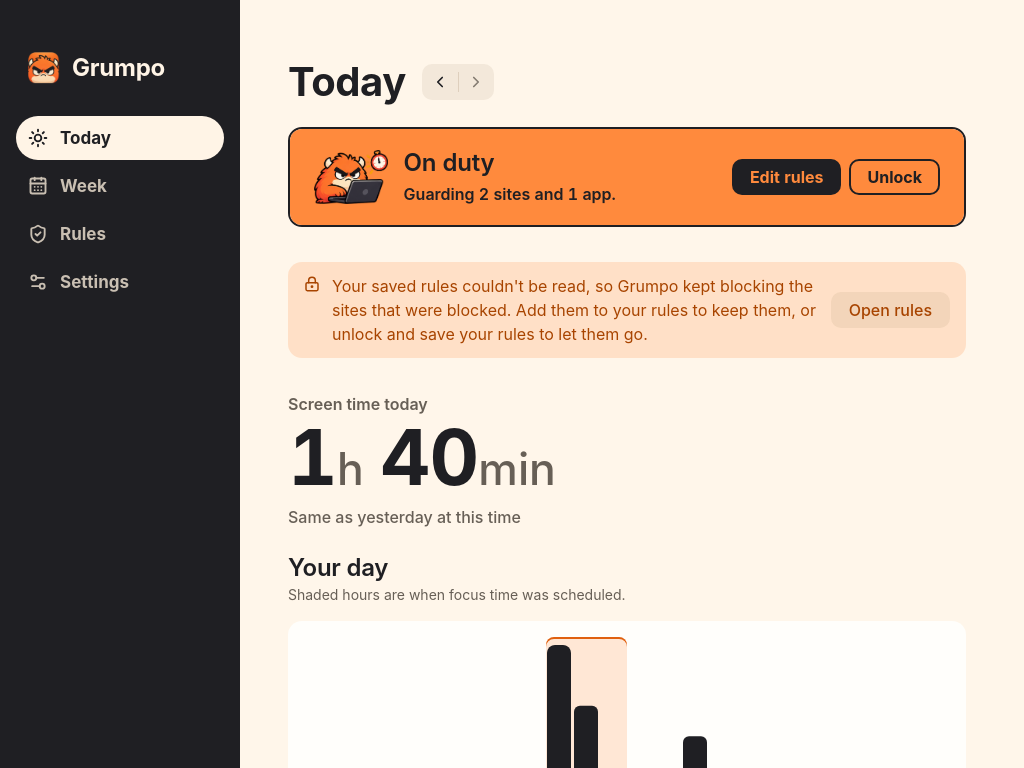
TodayScreen held sites › stays quiet on a past day, where the banner is not shown either
Expected: the text "Your saved rules couldn't be read, so Grumpo kept blocking the sites that were blocked. Add them to your rules to keep t" is shown, [332,276,816,344]
Click the button named "Previous day" at (440, 82), box [422,64,458,100]
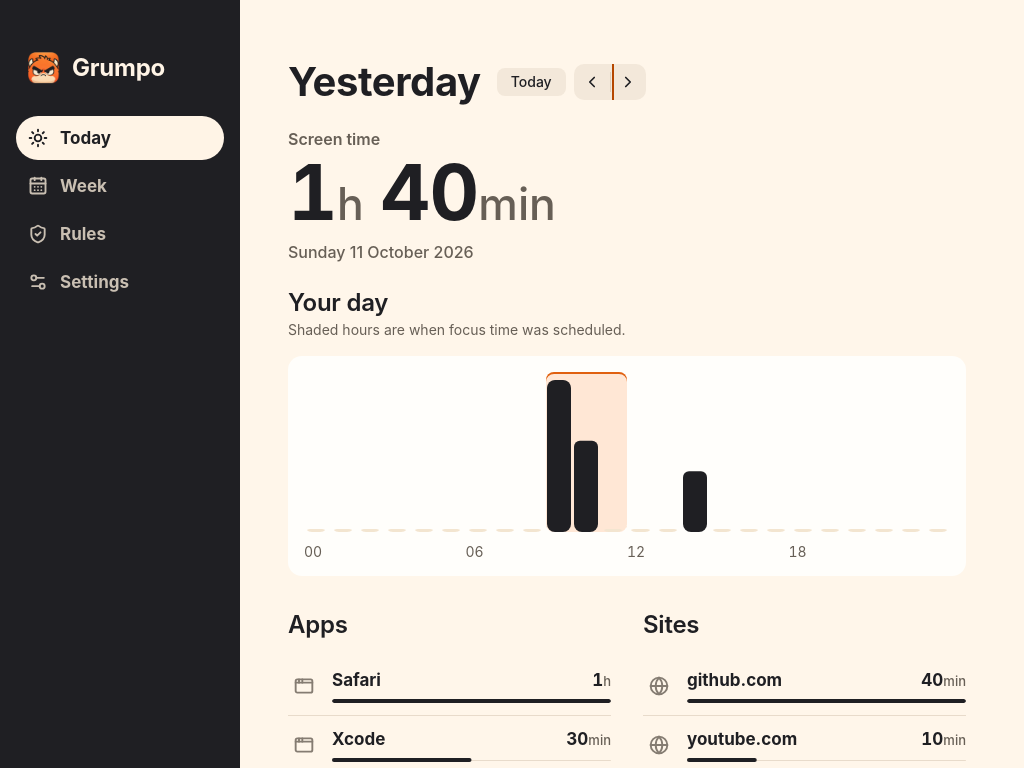
Expected: the text "Your saved rules couldn't be read, so Grumpo kept blocking the sites that were blocked. Add them to your rules to keep t" is gone
